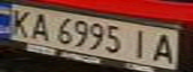5: (103, 22, 130, 55)
6: (51, 15, 75, 46)
9: (84, 20, 109, 52), (69, 18, 90, 50)
A: (145, 30, 181, 64), (24, 11, 54, 42)
I: (127, 28, 157, 60)
K: (3, 7, 36, 37)
